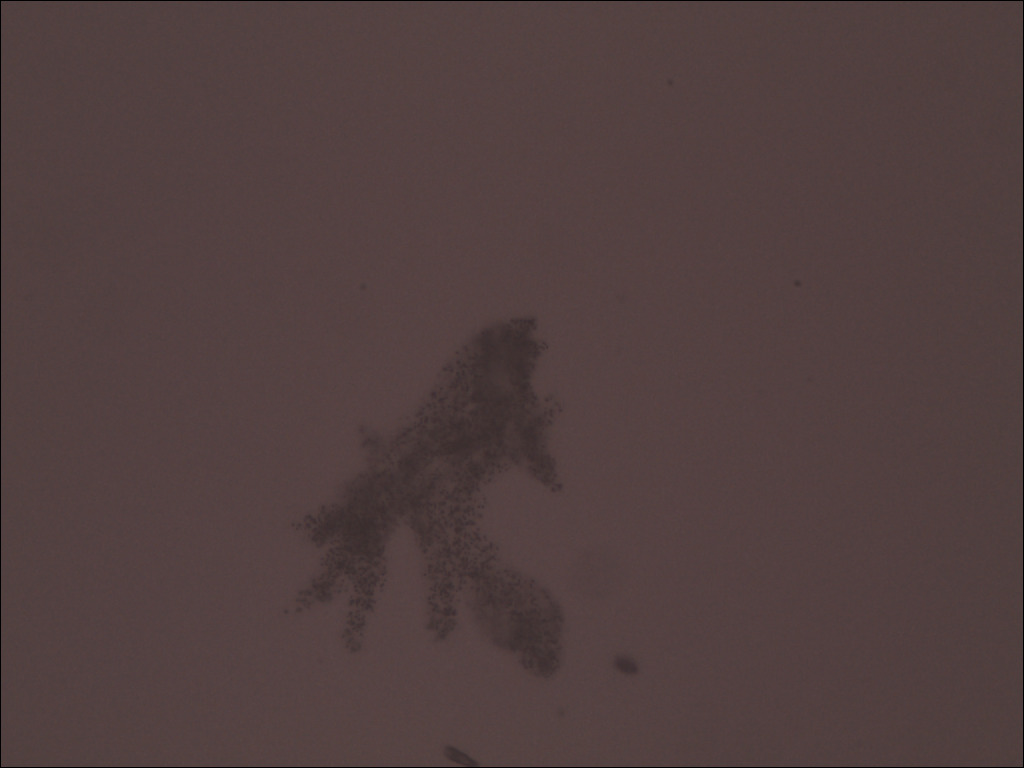amoeba: (267, 303, 600, 693)
